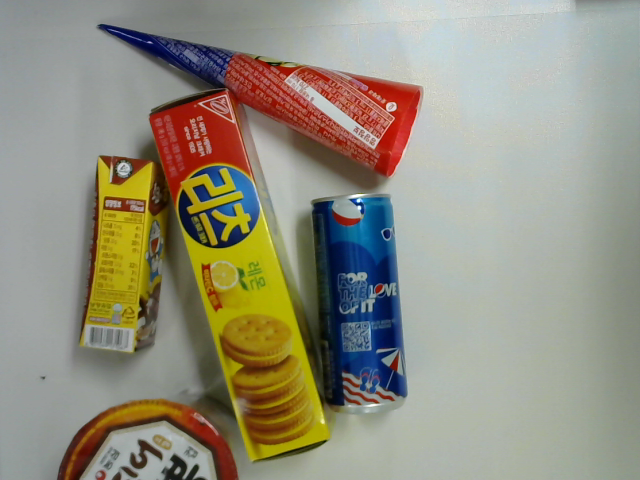Choco_E_Mong: (74, 152, 171, 361)
Ojjam: (49, 394, 252, 480)
Pepsi_Cola_Can_250ml: (300, 185, 419, 422)
Ritz_Remon_96g: (145, 88, 347, 467)
World_Cone_Banila: (90, 13, 428, 185)
